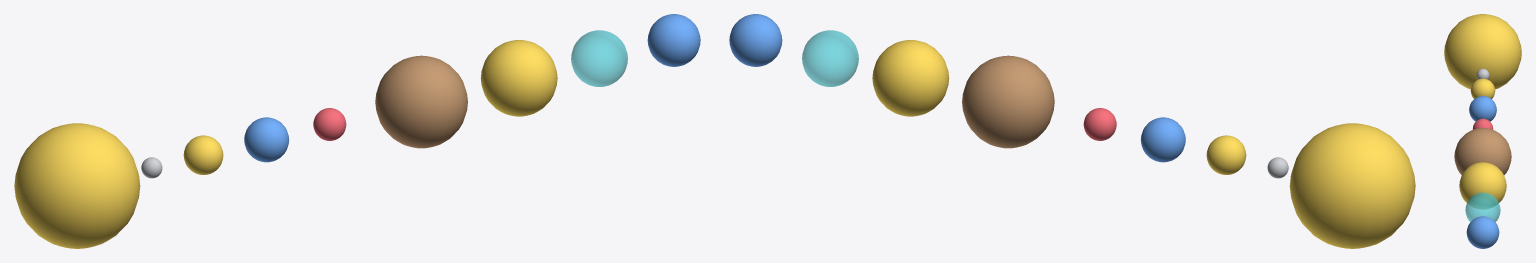
The model's file is solar-system.glb.
3 views of the same model, side by side, from view 1: azimuth 30°, elevation 25°; view 2: azimuth 150°, elevation 25°; view 3: azimuth 270°, elevation 25° (orthographic). The views are drawn at different scales.
Parts seen in each view (by area): view 1: Sun, Jupiter, Saturn, Uranus, Neptune, Earth, Venus, Mars; view 2: Sun, Jupiter, Saturn, Uranus, Neptune, Earth, Venus, Mars; view 3: Sun, Jupiter, Saturn, Neptune, Uranus, Earth, Venus, Mars, Mercury.
Part boxes in pixels (box(x1,y1,x2,y2)): Sun: box(14, 123, 140, 248); Jupiter: box(375, 55, 467, 148); Saturn: box(480, 40, 557, 116); Uranus: box(571, 30, 627, 86); Neptune: box(647, 14, 700, 66); Earth: box(244, 117, 289, 162); Venus: box(183, 135, 223, 174); Mars: box(313, 108, 346, 140); Sun: box(1289, 123, 1415, 248); Jupiter: box(962, 55, 1054, 148); Saturn: box(872, 40, 949, 116); Uranus: box(802, 30, 858, 86); Neptune: box(729, 14, 782, 66); Earth: box(1140, 117, 1185, 162); Venus: box(1206, 135, 1246, 174); Mars: box(1083, 108, 1116, 140); Sun: box(1444, 14, 1521, 89); Jupiter: box(1454, 128, 1511, 174); Saturn: box(1459, 162, 1506, 209); Neptune: box(1466, 216, 1499, 248); Uranus: box(1465, 192, 1500, 221); Earth: box(1469, 96, 1496, 121); Venus: box(1470, 78, 1495, 98); Mars: box(1472, 118, 1493, 129); Mercury: box(1476, 68, 1489, 79).
Bounding box in the file's own units: 11.75 × 1.9 × 1.9.
